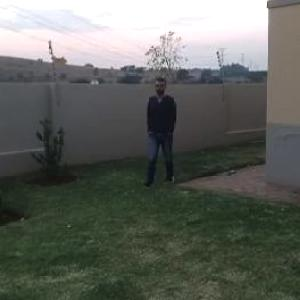follow: (143, 74, 182, 187)
